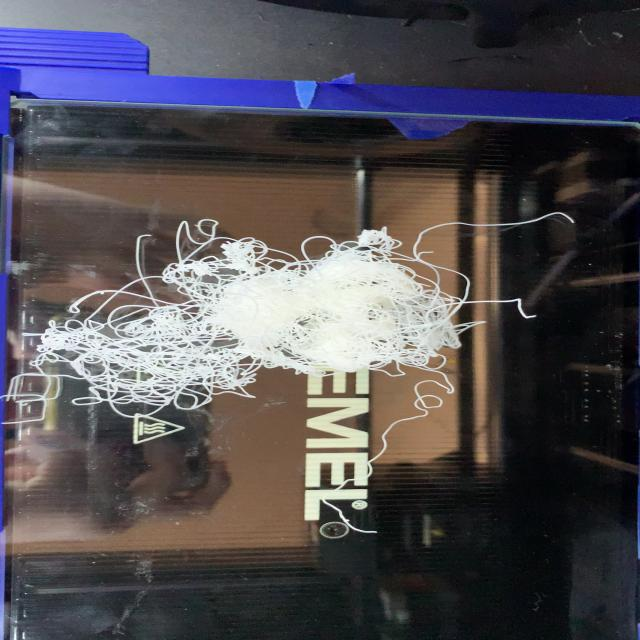spaghetti: (26, 212, 550, 419)
